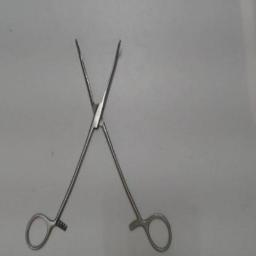Lahey Forceps: (24, 33, 174, 253)
